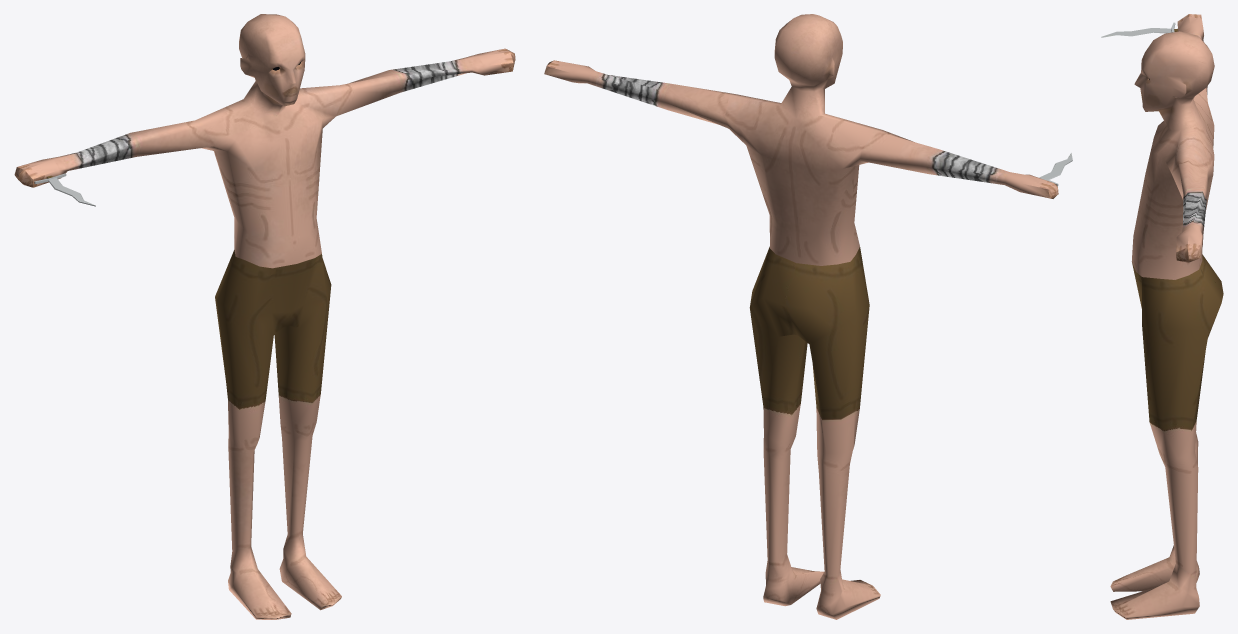
Rendered from Ghoul T Pose.fbx.
3 renders of one model, left to right at view 1: azimuth 30°, elevation 25°; view 2: azimuth 150°, elevation 25°; view 3: azimuth 270°, elevation 25°, orthographic. The views are drawn at different scales.
Visible parts, largest first — view 1: pCylinder2; view 2: pCylinder2; view 3: pCylinder2.
Boxes of the visible parts, box(x1,y1,x2,y2) form: pCylinder2: box(14, 14, 515, 619); pCylinder2: box(544, 14, 1072, 619); pCylinder2: box(1101, 14, 1223, 619).
Bounding box in the file's own units: 1.45 × 1.6 × 0.3136.
